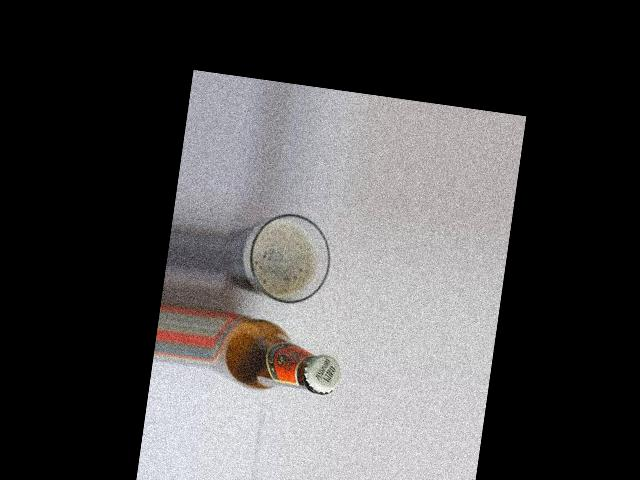beer: (206, 309, 347, 400)
